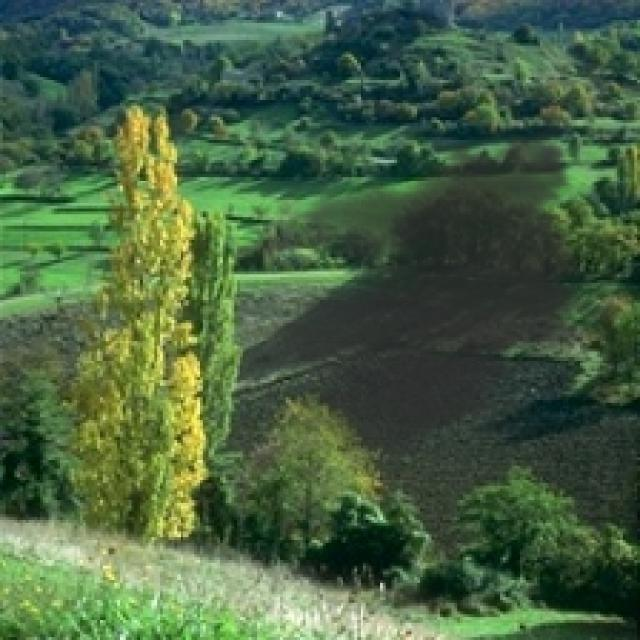smoke: (237, 117, 603, 474)
